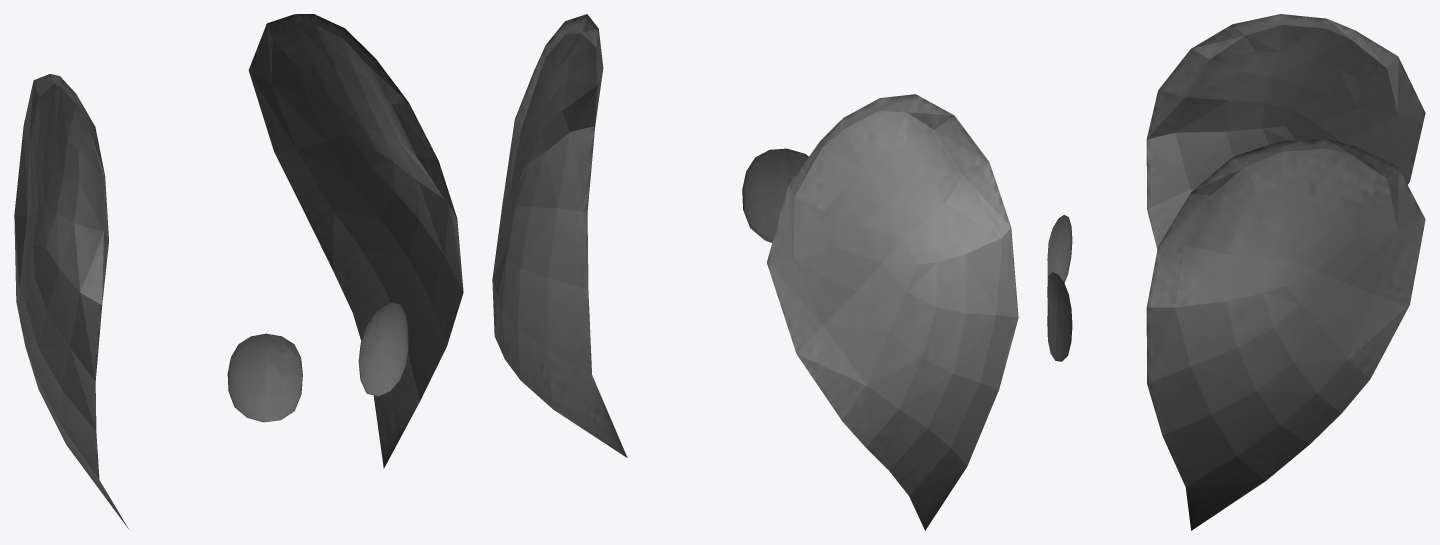
Rendered from head_detail.obj.
3 renders of one model, left to right at view 1: azimuth 30°, elevation 25°; view 2: azimuth 150°, elevation 25°; view 3: azimuth 270°, elevation 25°, orthographic. The views are drawn at different scales.
Visible parts, largest first — view 1: head_detail.obj; view 2: head_detail.obj; view 3: head_detail.obj.
Boxes of the visible parts, x1,y1,x2,y2 form: head_detail.obj: [14, 14, 463, 528]; head_detail.obj: [492, 14, 1018, 530]; head_detail.obj: [1047, 14, 1425, 530].
Bounding box in the file's own units: 0.1908 × 0.1972 × 0.1719.
Materials: 1 (1 with a texture image).
